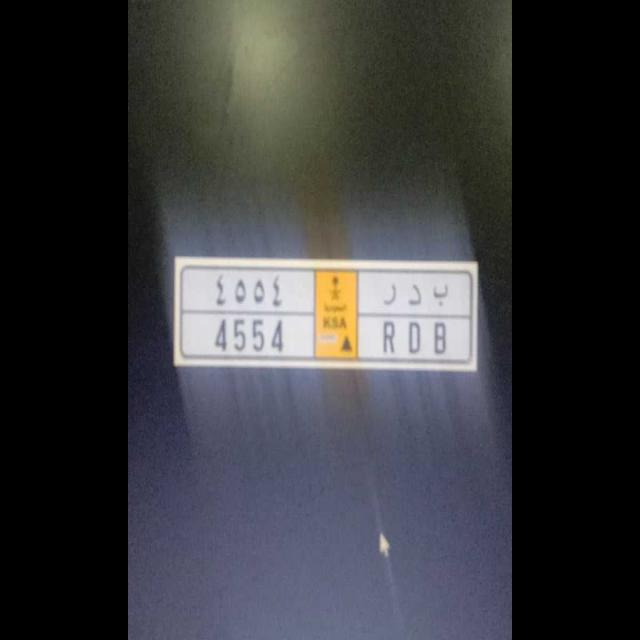license_plate: (192, 310, 463, 365)
